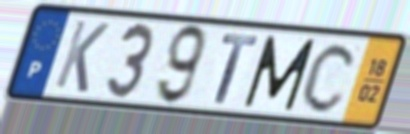3: (103, 20, 157, 101)
9: (154, 21, 208, 108)
C: (299, 40, 361, 116)
K: (51, 17, 112, 96)
M: (241, 33, 319, 113)
T: (213, 32, 261, 106)
